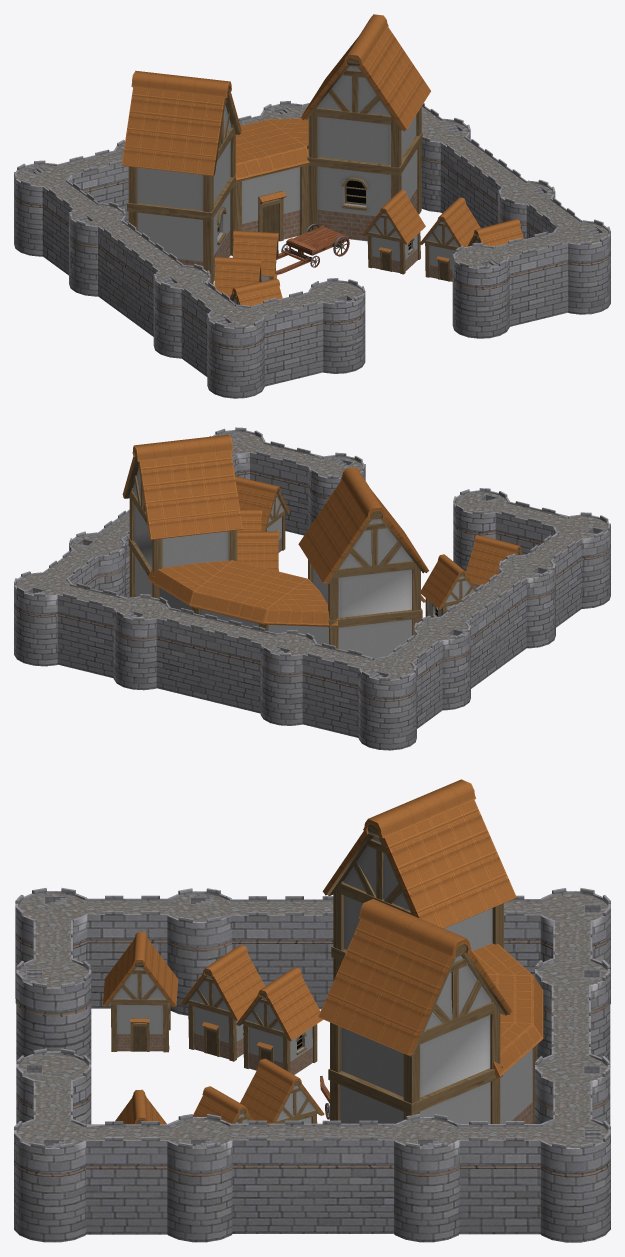
The model's file is sb_obj_outdoor010_Landmark_City.fbx.
The picture shows the model from 3 angles, top to bottom: view 1: azimuth 30°, elevation 25°; view 2: azimuth 150°, elevation 25°; view 3: azimuth 270°, elevation 25°; orthographic projection. The views are drawn at different scales.
Visible parts, largest first — view 1: sb_obj_outdoor010_Landmark01_City; view 2: sb_obj_outdoor010_Landmark01_City; view 3: sb_obj_outdoor010_Landmark01_City.
Part boxes in pixels (x1=…): sb_obj_outdoor010_Landmark01_City: x1=14, y1=14, x2=610, y2=398; sb_obj_outdoor010_Landmark01_City: x1=14, y1=427, x2=610, y2=750; sb_obj_outdoor010_Landmark01_City: x1=14, y1=779, x2=610, y2=1242.
Size of the model in its own units: 2.03 by 0.9459 by 1.98.
